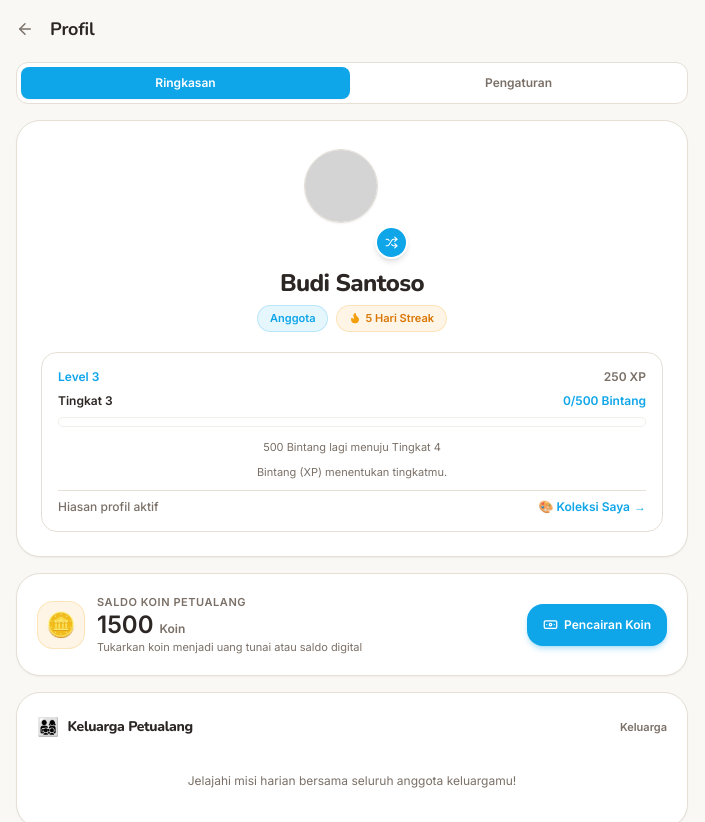
Test: ProfilePage › Member / Seeker Role View › switches to settings view when clicking settings button
Click the button "Pengaturan": (518, 83) [354,67,683,99]
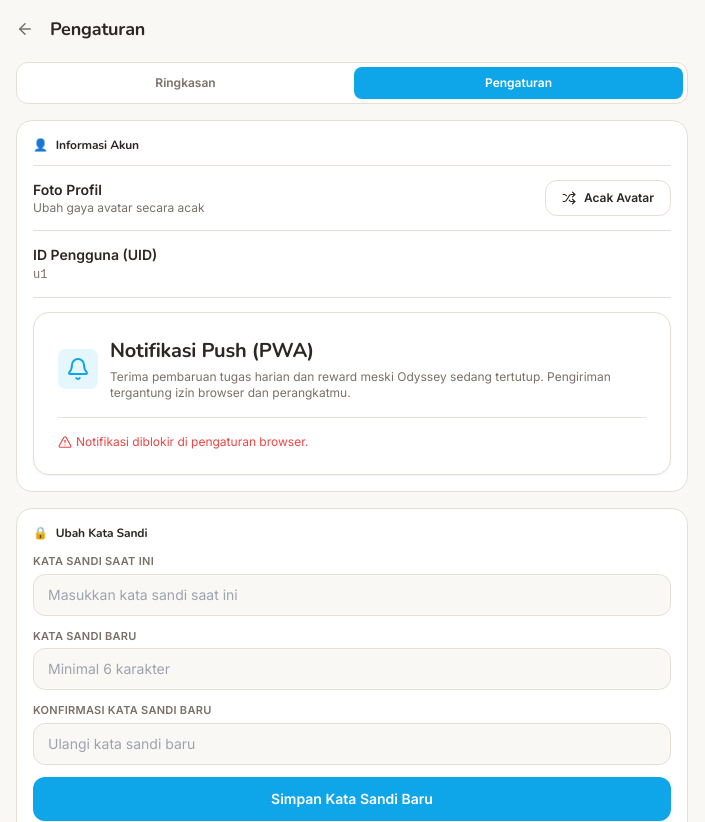
Expected: the heading "👤 Informasi Akun" is shown, [33,137,139,153]
Expected: the heading "🔒 Ubah Kata Sandi" is shown, [33,525,147,541]
